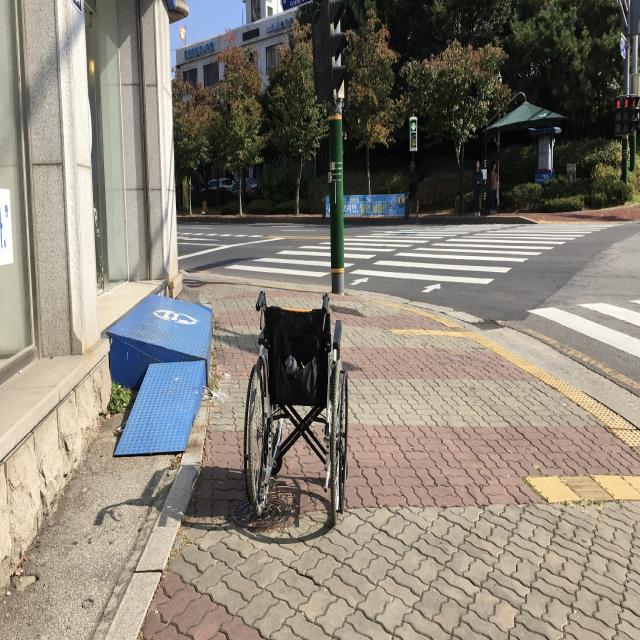횡단보도: (225, 223, 622, 293)
